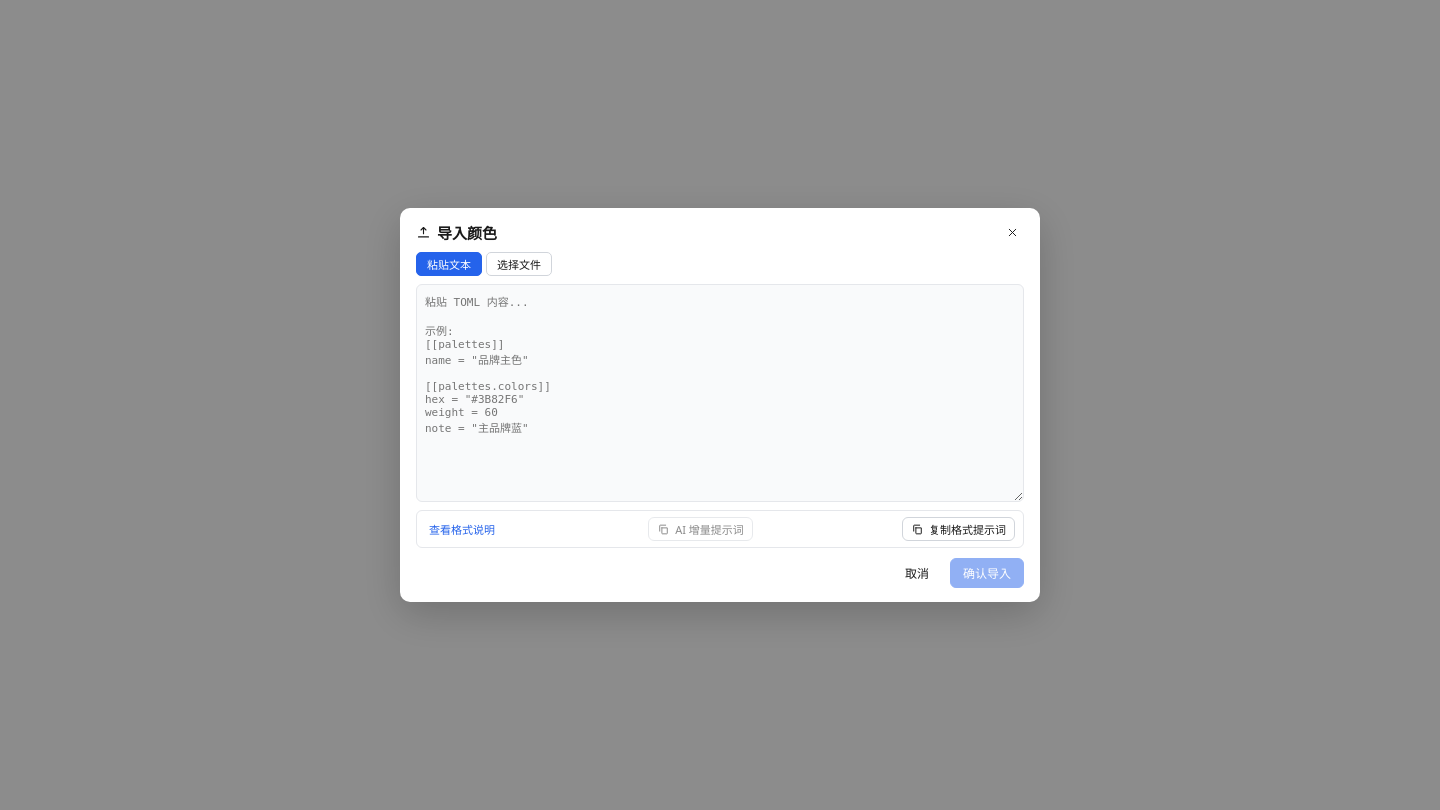
ImportModal: format prompt buttons › shows 已复制 feedback after copy
This screenshot has width=1440, height=810.
Click the button "复制格式提示词".
click(958, 529)  # box [902, 517, 1015, 541]
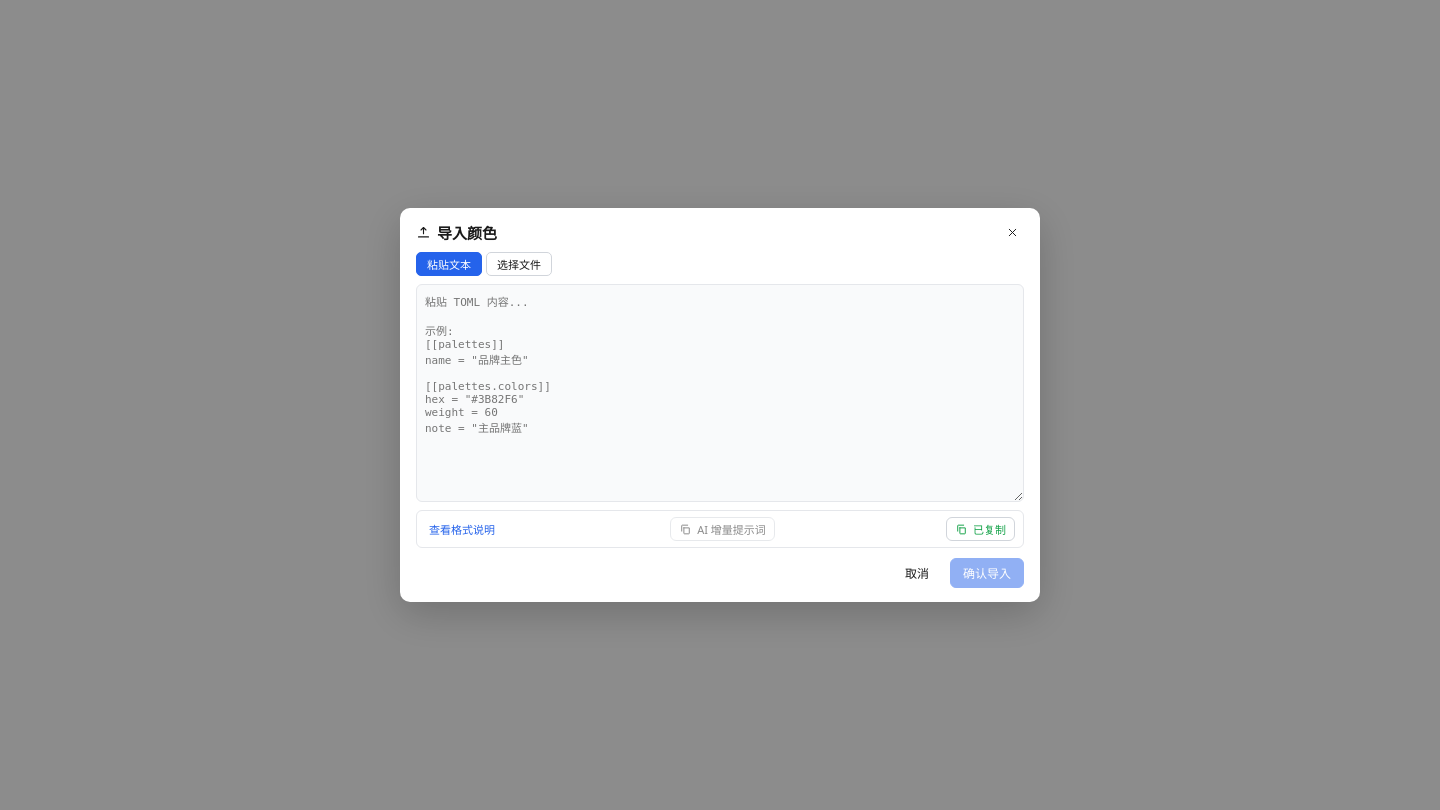
Expected: the button "已复制" is shown, [946, 517, 1015, 541]
